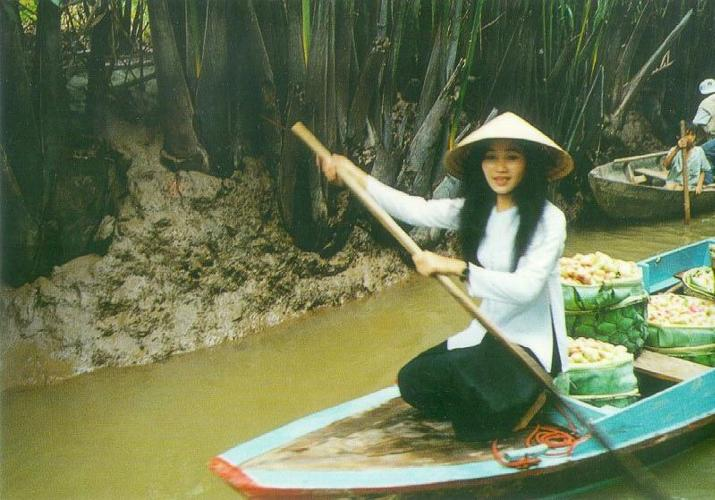person: (321, 111, 576, 445)
